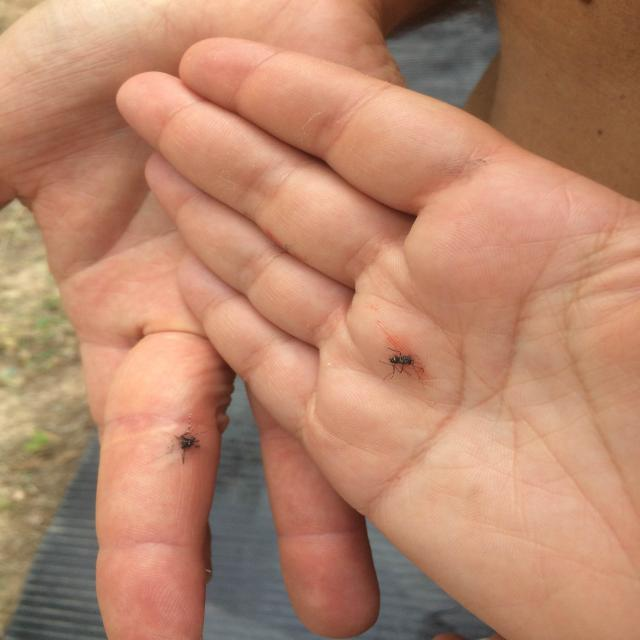albopictus: (371, 346, 434, 388)
